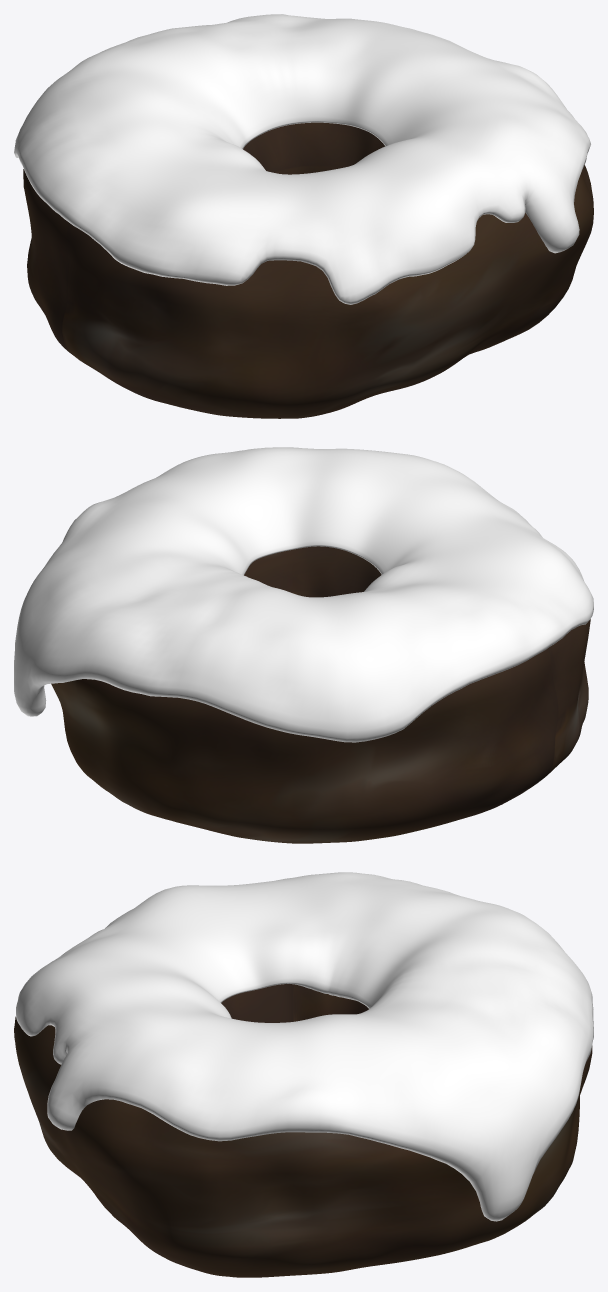
The model's file is donut.glb.
The picture shows the model from 3 angles, top to bottom: view 1: azimuth 30°, elevation 25°; view 2: azimuth 150°, elevation 25°; view 3: azimuth 270°, elevation 25°; orthographic projection. The views are drawn at different scales.
Visible parts, largest first — view 1: Icing, Donut; view 2: Icing, Donut; view 3: Icing, Donut.
Part boxes in pixels (x1=…): Icing: x1=14, y1=14, x2=590, y2=304; Donut: x1=23, y1=122, x2=593, y2=418; Icing: x1=14, y1=447, x2=593, y2=742; Donut: x1=51, y1=546, x2=590, y2=843; Icing: x1=16, y1=872, x2=593, y2=1221; Donut: x1=14, y1=984, x2=592, y2=1277.
Size of what is drawn, in the model's own units: 0.4771 by 0.2229 by 0.4828.
Materials: 2 (1 with a texture image).
